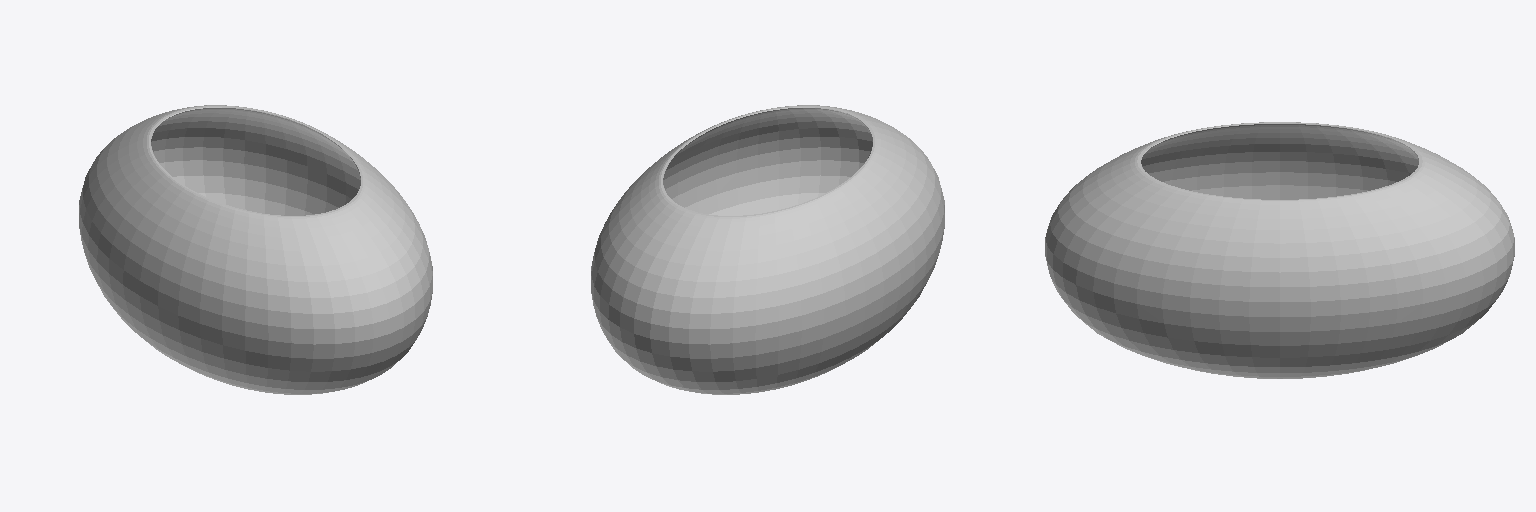
The model's file is vase2.obj.
3 renders of one model, left to right at view 1: azimuth 30°, elevation 25°; view 2: azimuth 150°, elevation 25°; view 3: azimuth 270°, elevation 25°, orthographic.
Parts seen in each view (by area): view 1: Pomeroy_Olivia.1; view 2: Pomeroy_Olivia.1; view 3: Pomeroy_Olivia.1.
Boxes of the visible parts, <box> form: Pomeroy_Olivia.1: <box>79,105,432,394</box>; Pomeroy_Olivia.1: <box>591,105,944,394</box>; Pomeroy_Olivia.1: <box>1045,122,1514,378</box>.
Bounding box in the file's own units: 0.1632 × 0.1109 × 0.2504.